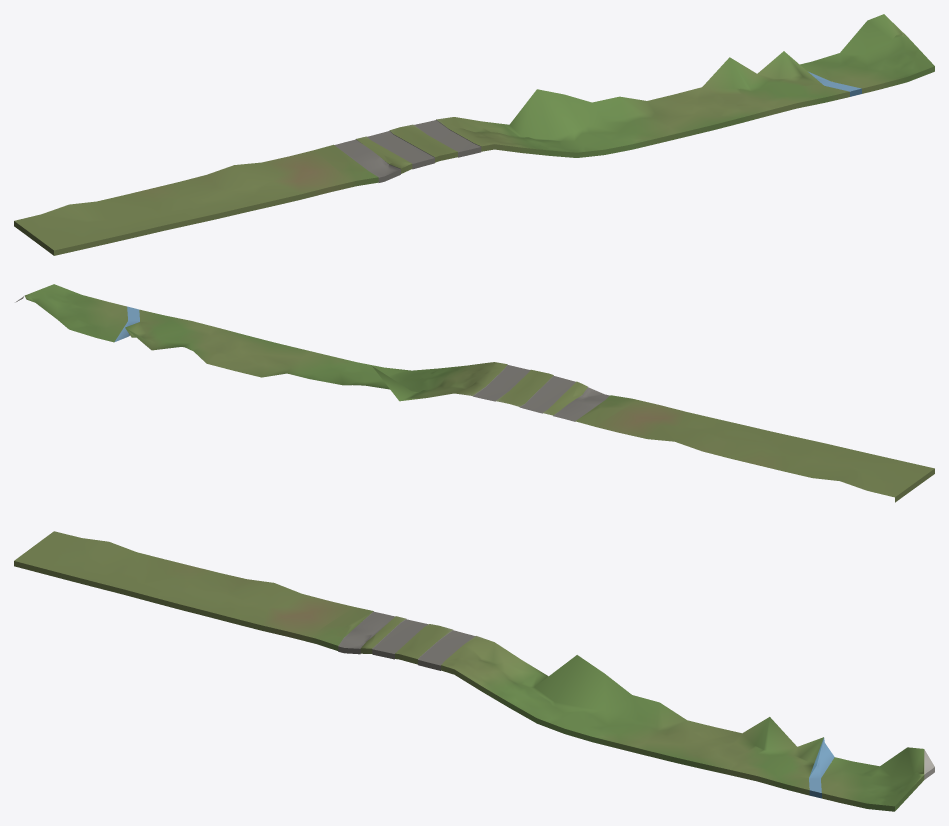
3 renders of one model, top to bottom at view 1: azimuth 30°, elevation 25°; view 2: azimuth 150°, elevation 25°; view 3: azimuth 330°, elevation 25°, orthographic.
Parts seen in each view (by area): view 1: T-2--6.L2:utd:matte; view 2: T-2--6.L2:utd:matte; view 3: T-2--6.L2:utd:matte, T-2--6.L2:utd:water.
Part boxes in pixels (bbox=[...]): T-2--6.L2:utd:matte: bbox=[14, 14, 934, 255]; T-2--6.L2:utd:matte: bbox=[15, 284, 934, 502]; T-2--6.L2:utd:matte: bbox=[14, 531, 934, 811]; T-2--6.L2:utd:water: bbox=[809, 738, 834, 792].
Size of the model in its own units: 256 by 12.51 by 20.2.
